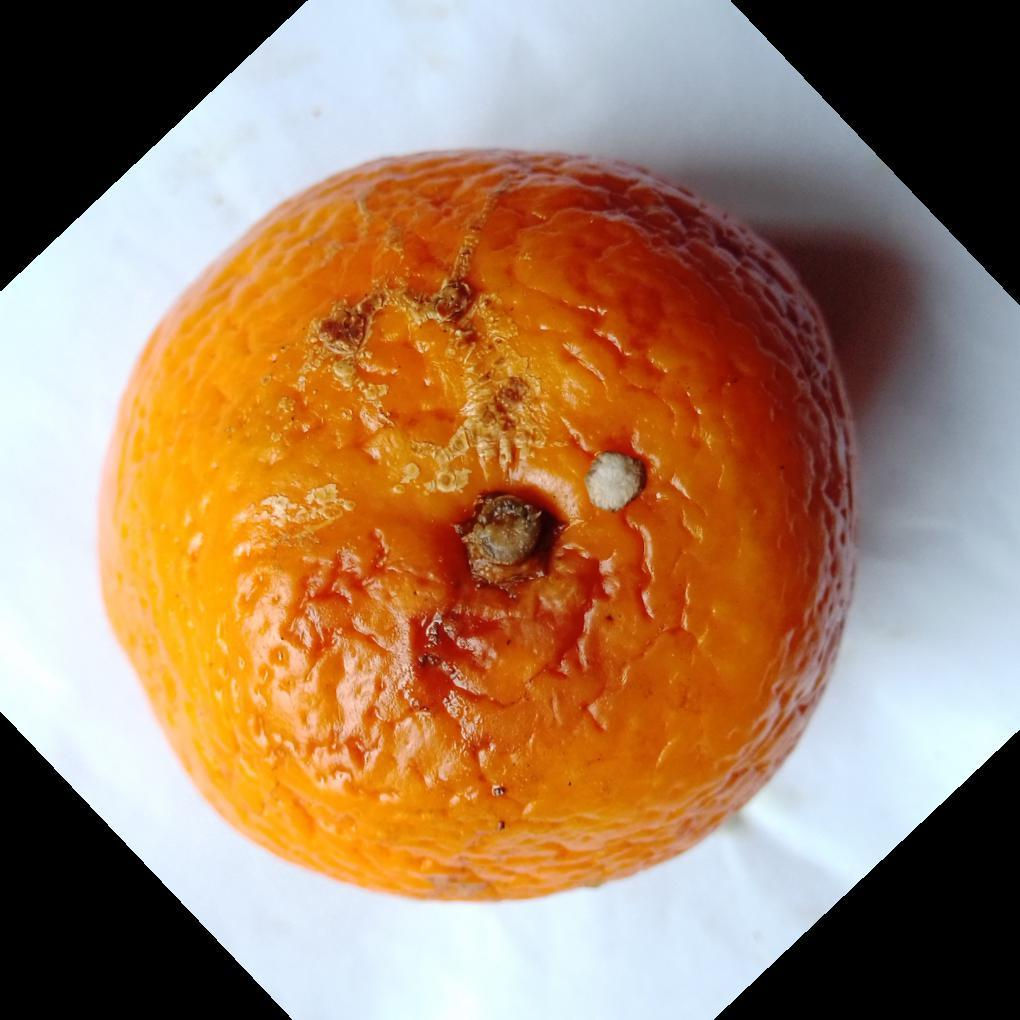FreshOrange: (93, 148, 859, 908)
